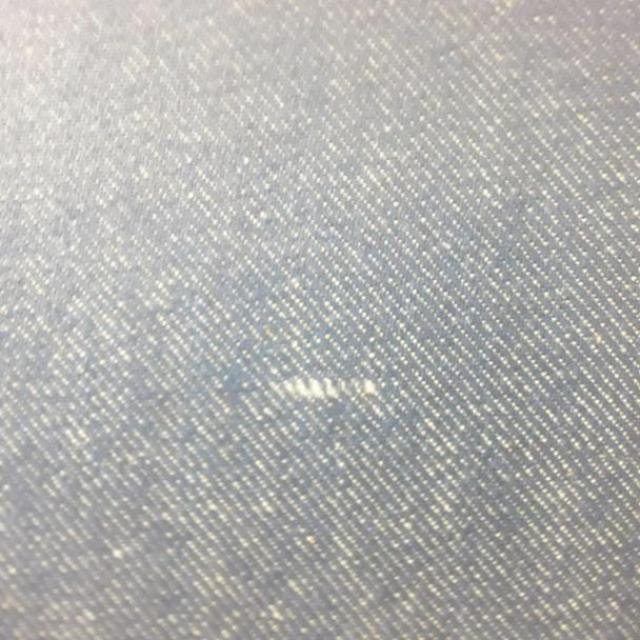Knot: (271, 378, 379, 402)
